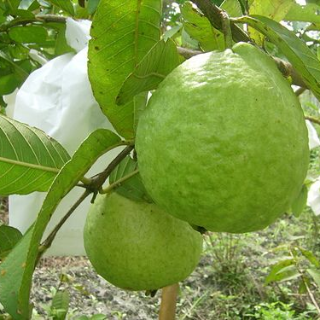oi: (135, 43, 310, 232)
